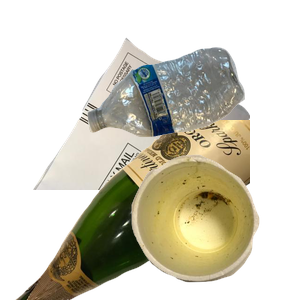glass: (13, 120, 253, 300)
paper: (31, 35, 271, 215)
plastic: (85, 45, 300, 175)
trash: (129, 152, 300, 300)
